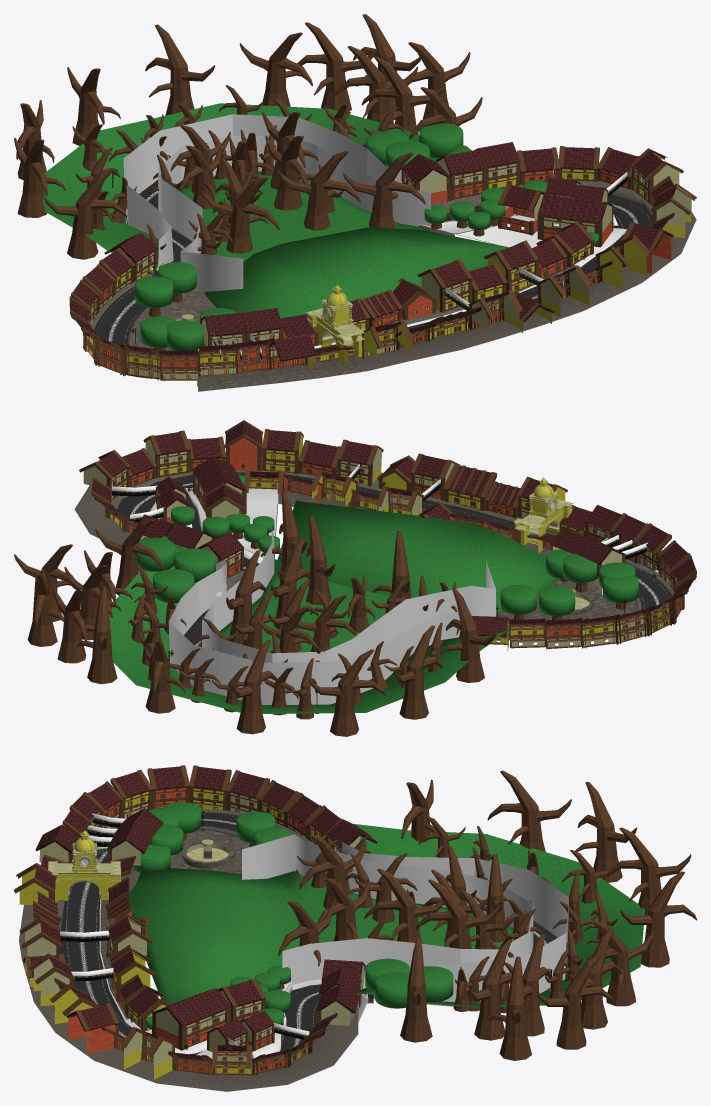
The model's file is Track 1.fbx.
3 renders of one model, top to bottom at view 1: azimuth 30°, elevation 25°; view 2: azimuth 150°, elevation 25°; view 3: azimuth 270°, elevation 25°, orthographic. The views are drawn at different scales.
Parts seen in each view (by area): view 1: Cube.055, Plane.002, Cube.004, First_floor.071, Roof.010, Roof.014, Cylinder.021, Roof.019, Roof.009, Cylinder.030, NurbsPath.001, First_floor.001 (+17 smaller); view 2: Cube.055, Plane.002, Roof.019, Cylinder.021, Roof.013, Roof.047, Cylinder.030, Coll.006, Roof.010, Roof.003, Coll.000, Roof.028 (+18 smaller); view 3: Cube.055, Plane.002, Cube.004, NurbsPath.001, Roof.010, Roof.032, Roof.047, Roof.019, Cylinder.021, Coll.000, Coll.001, Cylinder.030 (+17 smaller).
Boxes of the visible parts, x1,y1,x2,y2 form: Cube.055: [14, 14, 482, 264]; Plane.002: [43, 103, 508, 318]; Cube.004: [197, 180, 696, 391]; First_floor.071: [401, 142, 560, 204]; Roof.010: [498, 177, 613, 247]; Roof.014: [469, 221, 594, 301]; Cylinder.021: [366, 123, 547, 230]; Roof.019: [595, 183, 696, 288]; Roof.009: [558, 146, 683, 206]; Cylinder.030: [135, 262, 236, 350]; NurbsPath.001: [94, 179, 652, 378]; First_floor.001: [349, 259, 472, 329]; Cube.055: [14, 492, 496, 736]; Plane.002: [109, 501, 560, 713]; Roof.019: [143, 420, 303, 477]; Cylinder.021: [137, 506, 279, 603]; Roof.013: [298, 439, 457, 500]; Roof.047: [472, 605, 654, 651]; Cylinder.030: [500, 549, 638, 615]; Coll.006: [194, 645, 378, 704]; Roof.010: [155, 456, 246, 533]; Roof.003: [443, 463, 567, 518]; Coll.000: [371, 560, 495, 649]; Roof.028: [559, 504, 671, 573]; Cube.055: [278, 770, 696, 1060]; Plane.002: [128, 824, 644, 1021]; Cube.004: [19, 836, 373, 1091]; NurbsPath.001: [60, 812, 567, 1051]; Roof.010: [152, 978, 274, 1052]; Roof.032: [87, 765, 231, 828]; Roof.047: [226, 770, 377, 852]; Roof.019: [49, 984, 176, 1079]; Cylinder.021: [230, 958, 453, 1025]; Coll.000: [242, 834, 433, 905]; Coll.001: [282, 938, 460, 987]; Cylinder.030: [132, 802, 292, 872].
Size of what is drawn, in the model's own units: 3584 by 566 by 3413.
